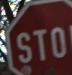Stop sign: (0, 0, 71, 74)
